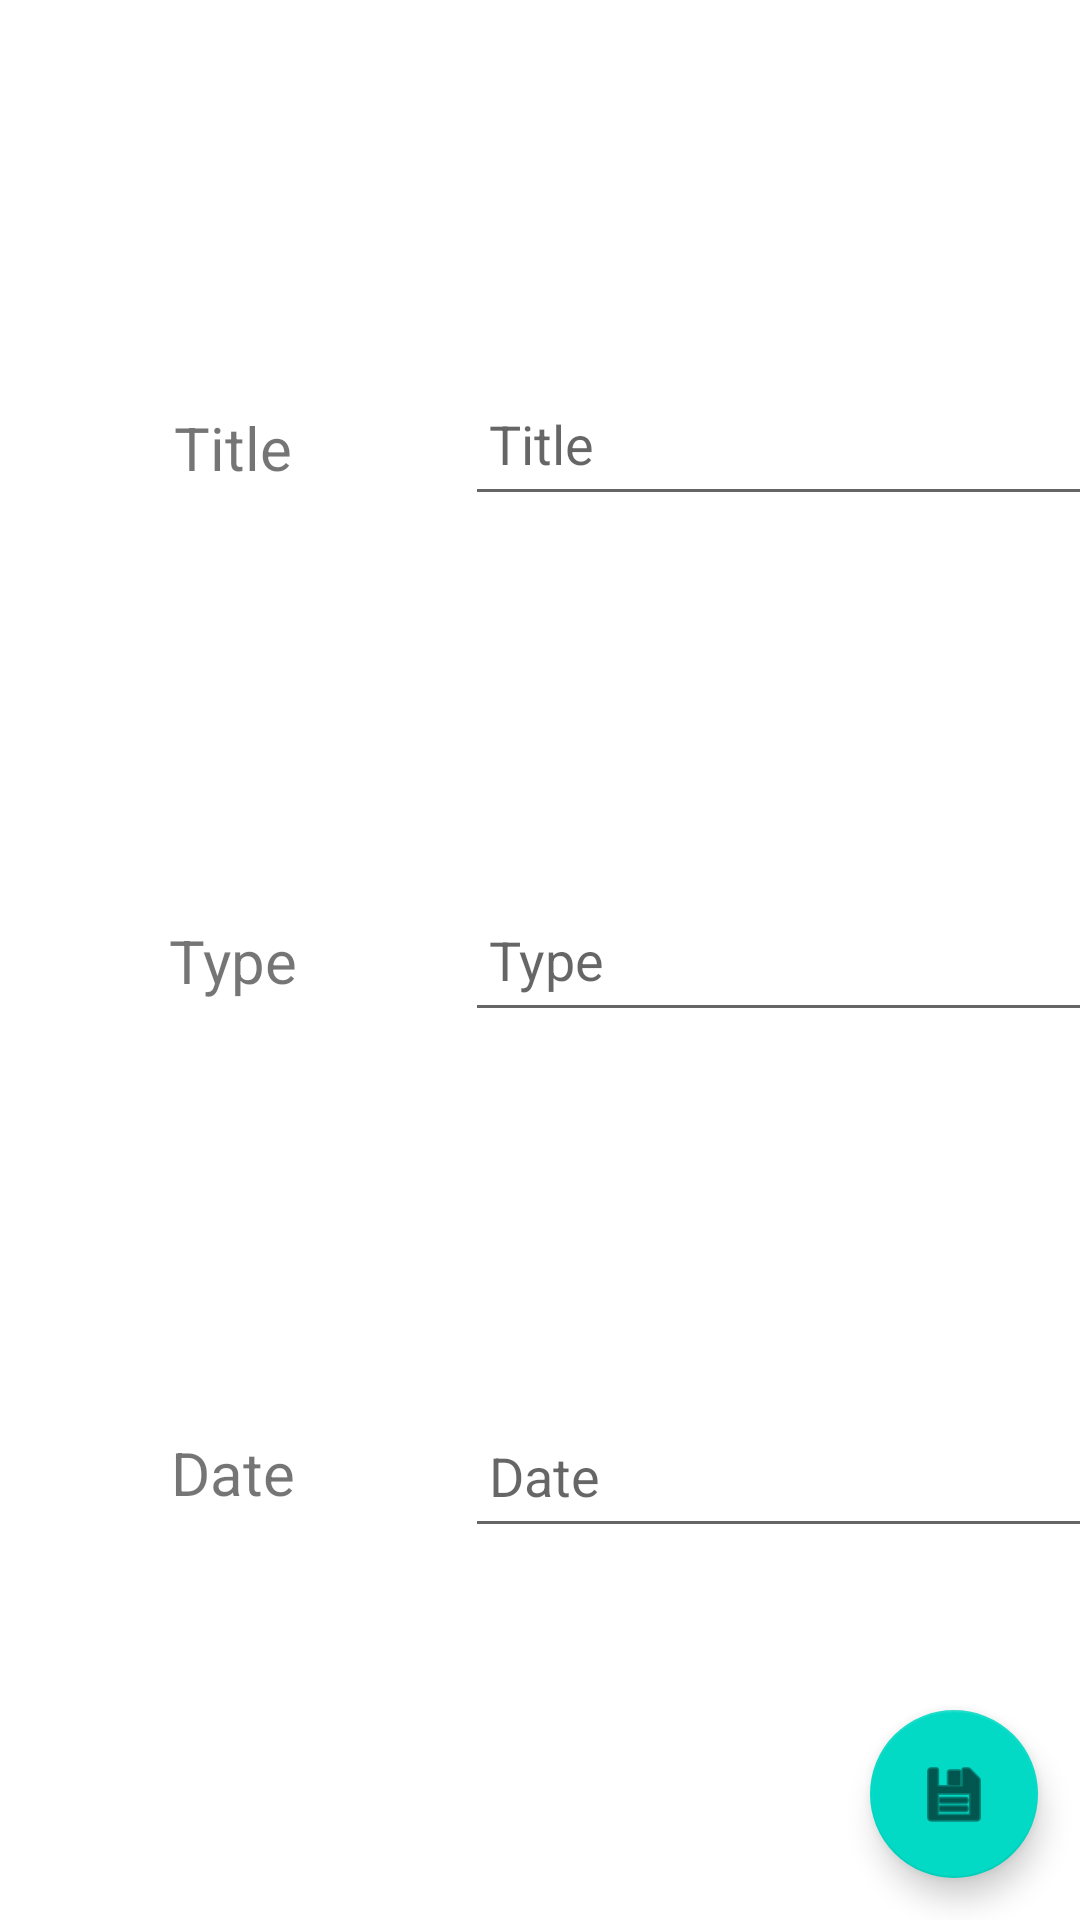

Locate icon controls on the screen. Image size 1080w x 1920h, boxes as [left=x1, top=y1, right=x2, bottom=y2].
save: [left=870, top=1710, right=1038, bottom=1878]
